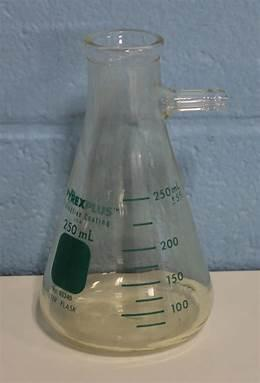Titrarion: (34, 16, 219, 346)
